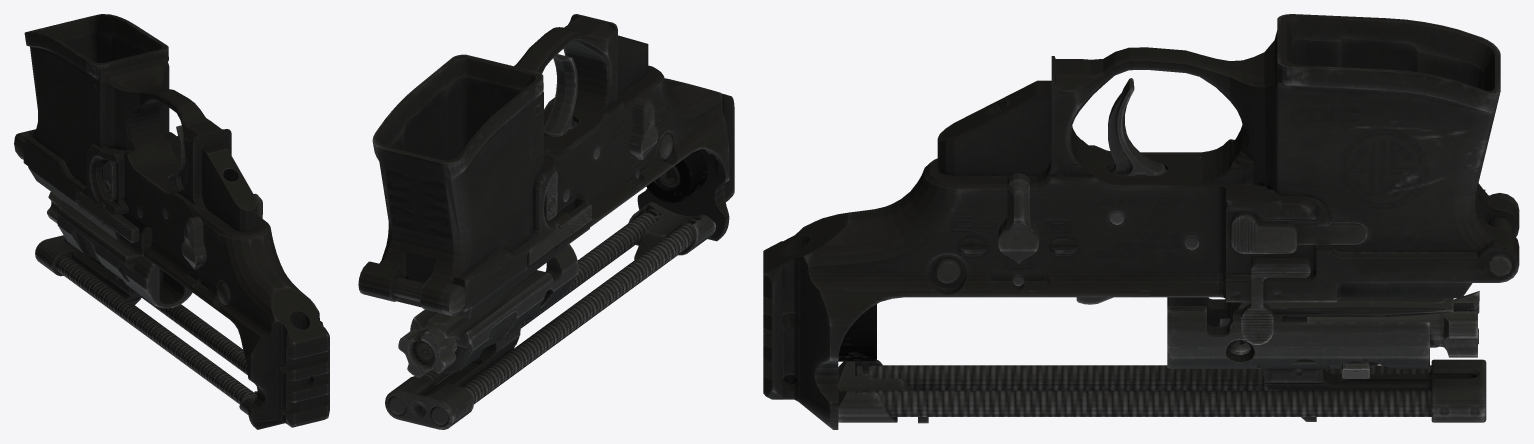
The picture shows the model from 3 angles, left to right: view 1: azimuth 30°, elevation 25°; view 2: azimuth 150°, elevation 25°; view 3: azimuth 270°, elevation 25°; orthographic projection. The views are drawn at different scales.
Visible parts, largest first — view 1: TW_58948c8e86f77409493f7266_PZ_Import; view 2: TW_58948c8e86f77409493f7266_PZ_Import; view 3: TW_58948c8e86f77409493f7266_PZ_Import.
Boxes of the visible parts, x1=… form: TW_58948c8e86f77409493f7266_PZ_Import: x1=14, y1=14, x2=329, y2=429; TW_58948c8e86f77409493f7266_PZ_Import: x1=358, y1=14, x2=734, y2=429; TW_58948c8e86f77409493f7266_PZ_Import: x1=763, y1=14, x2=1519, y2=429.
Size of the model in its own units: 0.0241 by 0.1262 by 0.0694.
1 material, 1 textured.
